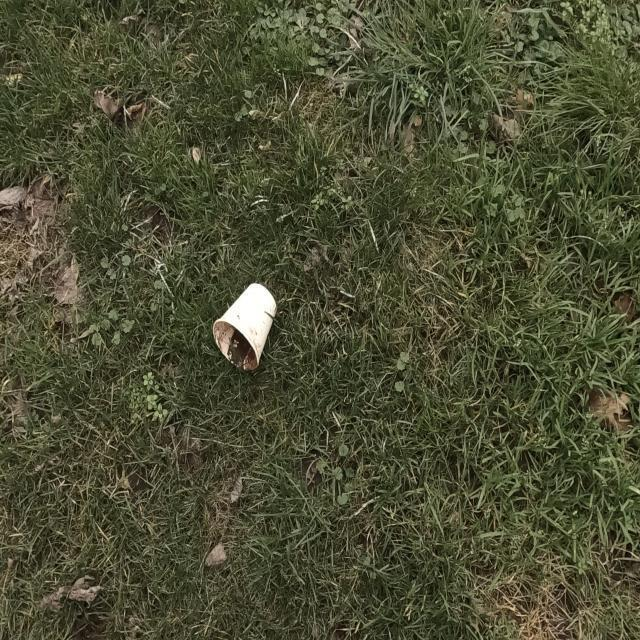Cup: (211, 280, 280, 374)
